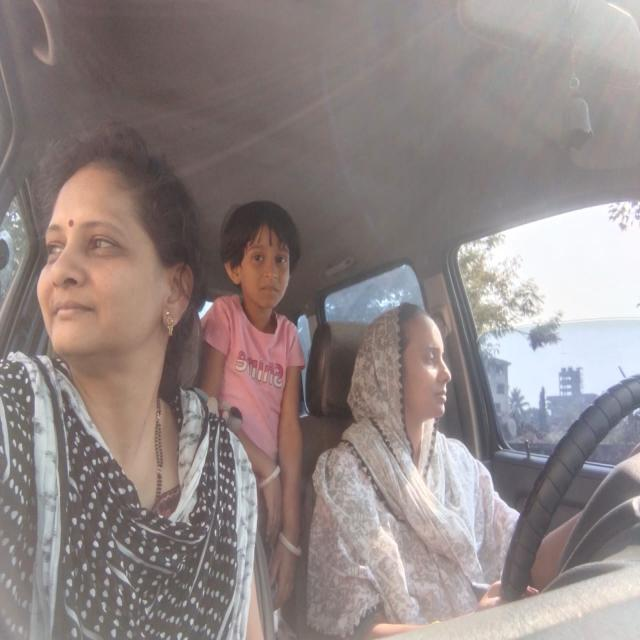LeftRight: (366, 294, 457, 425)
person: (27, 126, 205, 386), (220, 195, 302, 312)
